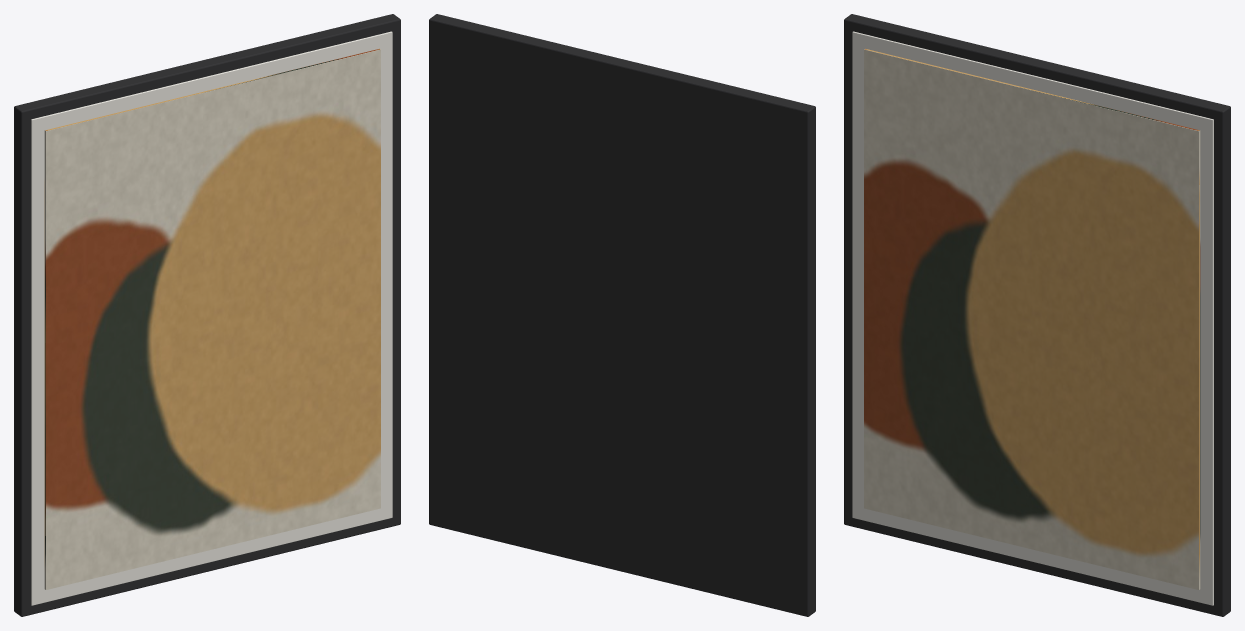
The model's file is living_art_a.glb.
3 views of the same model, side by side, from view 1: azimuth 30°, elevation 25°; view 2: azimuth 150°, elevation 25°; view 3: azimuth 330°, elevation 25° (orthographic).
Visible parts, largest first — view 1: living_art_a; view 2: living_art_a; view 3: living_art_a.
Part boxes in pixels (<box>): living_art_a: <box>14,14,400,616</box>; living_art_a: <box>429,14,815,616</box>; living_art_a: <box>844,14,1230,616</box>.
Size of the model in its own units: 1.1 by 1.4 by 0.05.
Materials: 3 (1 with a texture image).
